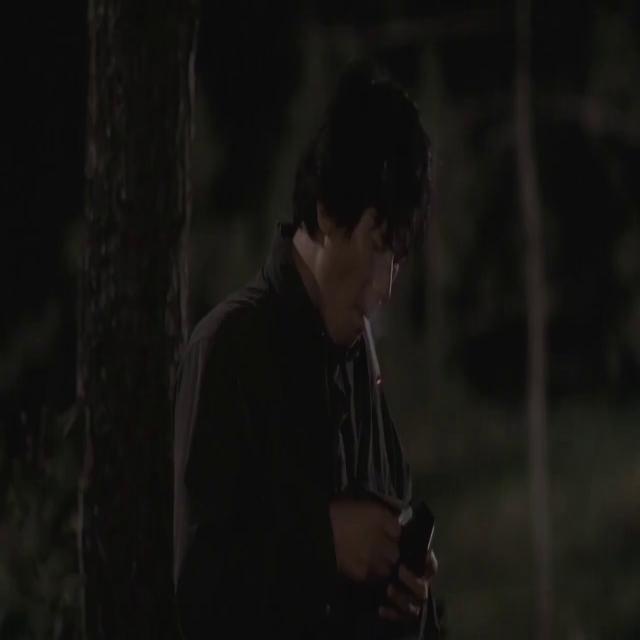Smooking: (360, 297, 389, 392)
